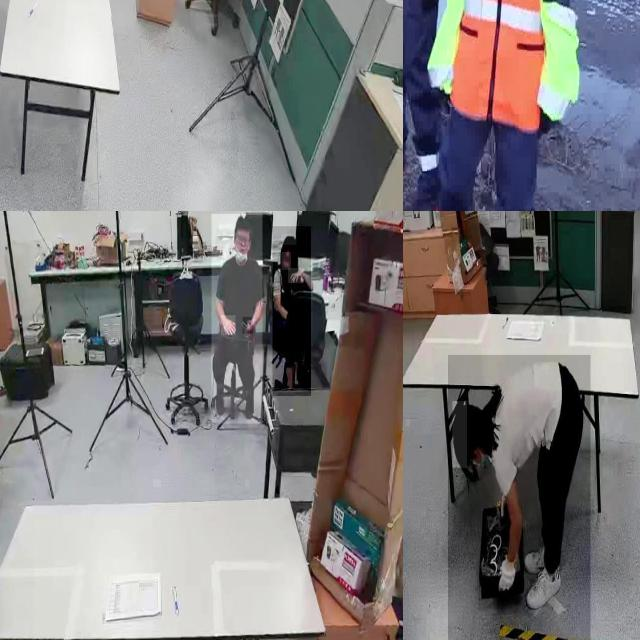boots: (403, 172, 435, 211)
face_nomask: (282, 252, 292, 271)
hand_glove: (495, 550, 519, 596)
hand_noglove: (221, 315, 236, 336), (288, 268, 304, 284), (242, 317, 254, 335)
head_nohelmet: (452, 401, 468, 469), (235, 214, 252, 230), (281, 234, 297, 246)
person: (448, 355, 591, 640), (465, 0, 572, 211), (403, 0, 463, 203), (211, 214, 263, 424), (272, 226, 312, 397)
shoes: (526, 561, 564, 614), (523, 545, 554, 574), (240, 381, 256, 422), (212, 380, 226, 419)
vest: (474, 0, 564, 137)
